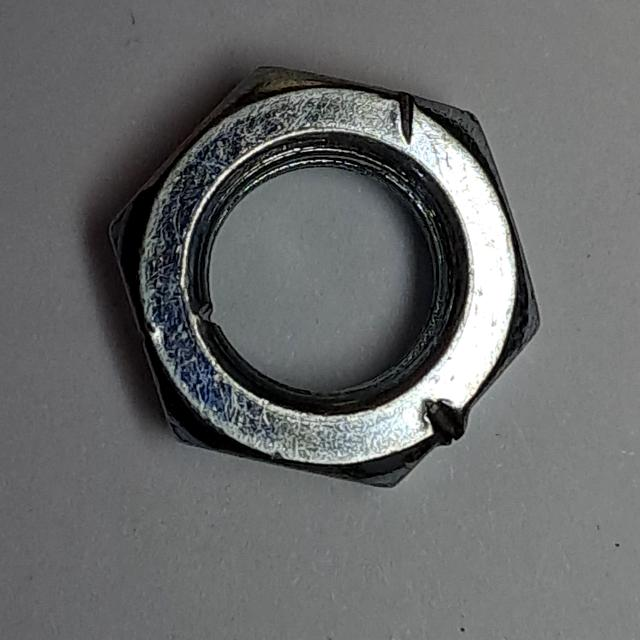Scratches: (96, 51, 552, 508)
